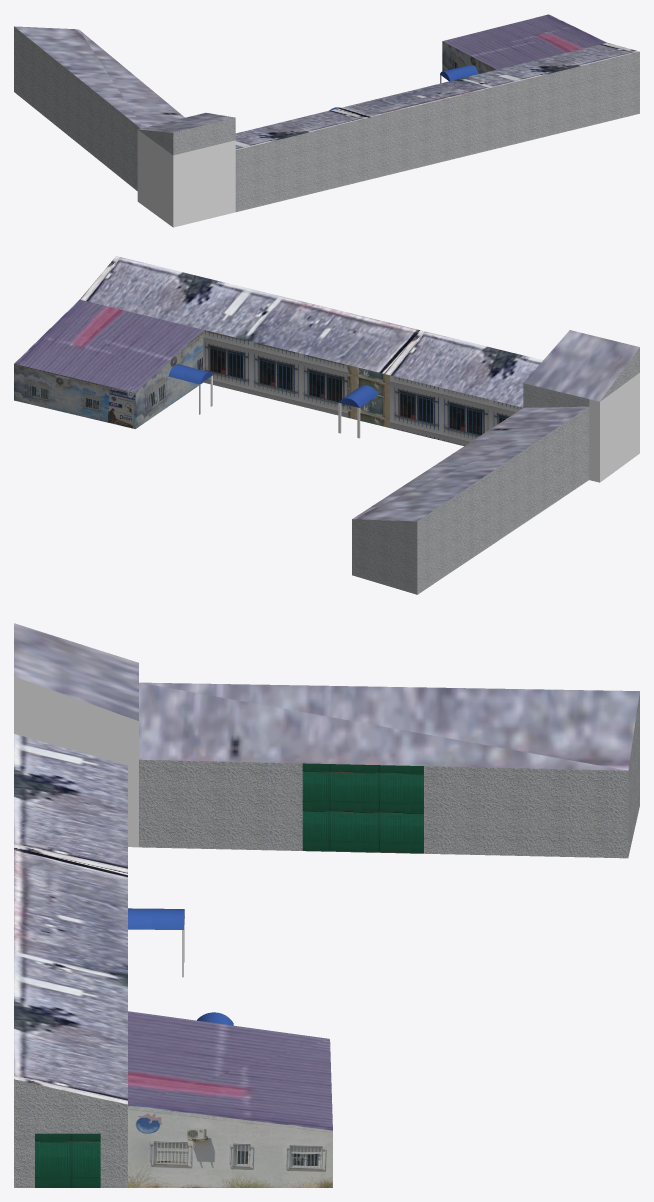
Rendered from Lecu_tas.gltf.
The picture shows the model from 3 angles, top to bottom: view 1: azimuth 30°, elevation 25°; view 2: azimuth 150°, elevation 25°; view 3: azimuth 270°, elevation 25°; orthographic projection. The views are drawn at different scales.
Parts seen in each view (by area): view 1: tas; view 2: tas; view 3: tas.
Part boxes in pixels (<box>): tas: <box>14,14,639,227</box>; tas: <box>14,256,639,594</box>; tas: <box>14,623,639,1187</box>.
Bounding box in the file's own units: 39.22 × 7.61 × 26.02.
